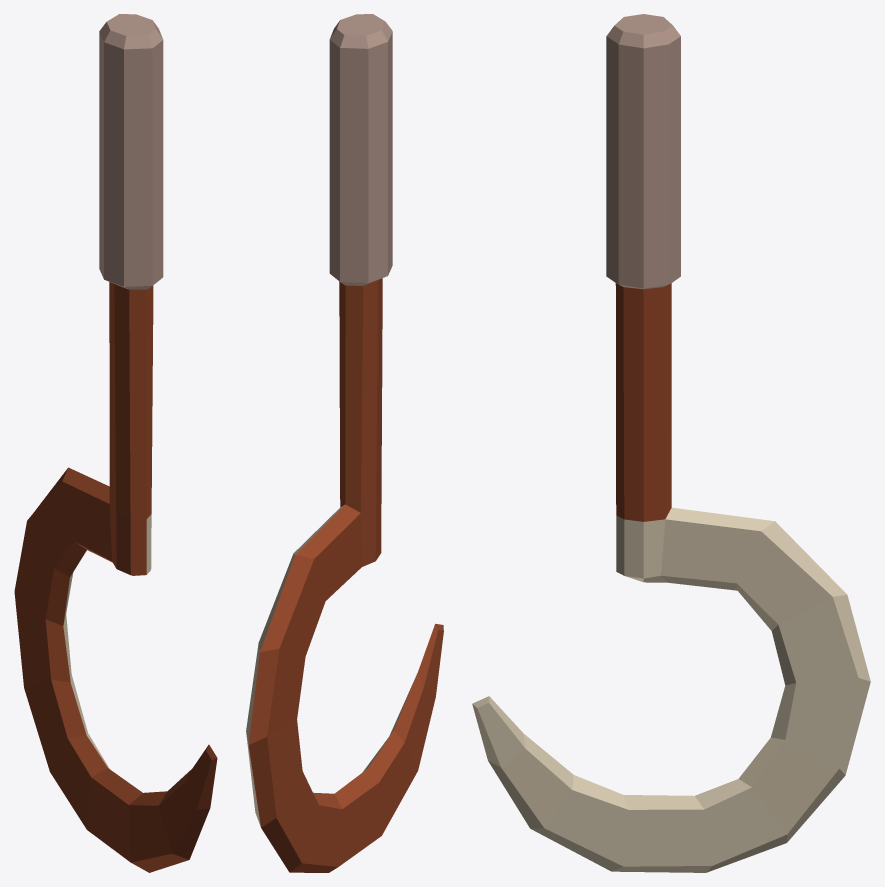
The model's file is sickle.glb.
3 views of the same model, side by side, from view 1: azimuth 30°, elevation 25°; view 2: azimuth 150°, elevation 25°; view 3: azimuth 270°, elevation 25° (orthographic). The views are drawn at different scales.
Visible parts, largest first — view 1: sickle; view 2: sickle; view 3: sickle.
Boxes of the visible parts, x1=… form: sickle: x1=14, y1=14, x2=217, y2=872; sickle: x1=246, y1=14, x2=443, y2=872; sickle: x1=472, y1=14, x2=870, y2=872.
Size of the model in its own units: 0.2752 by 4.02 by 1.71.
1 material, 1 textured.
